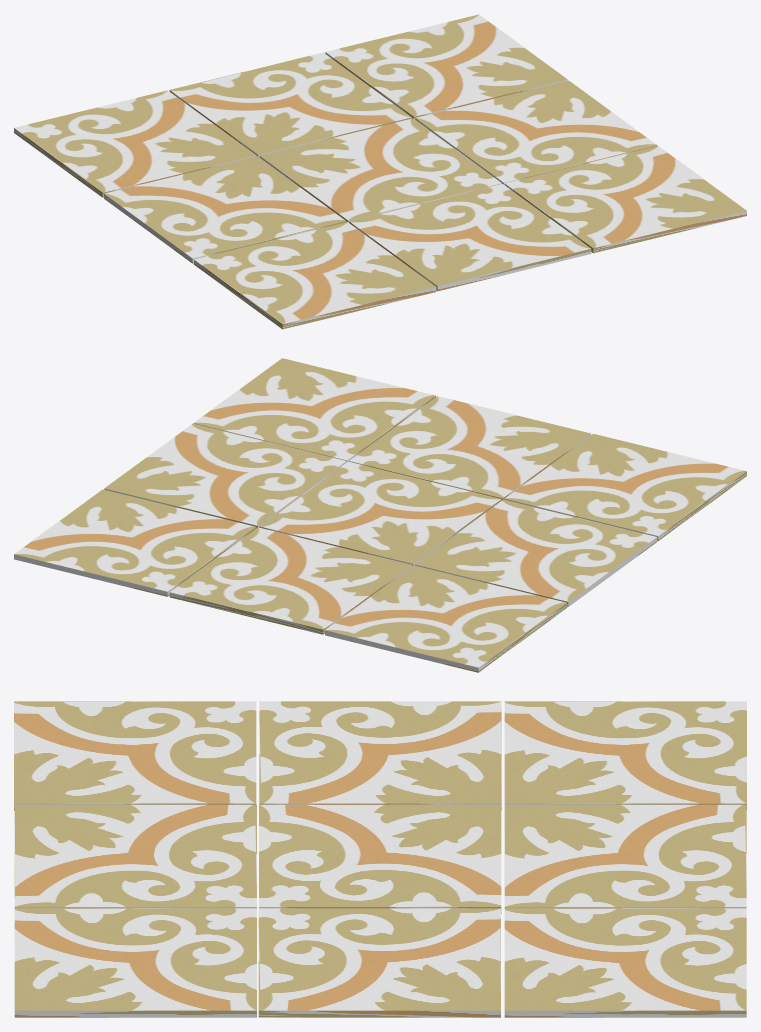
Rendered from baldosa2.glb.
The picture shows the model from 3 angles, top to bottom: view 1: azimuth 30°, elevation 25°; view 2: azimuth 150°, elevation 25°; view 3: azimuth 270°, elevation 25°; orthographic projection. The views are drawn at different scales.
Parts seen in each view (by area): view 1: Cube.004, Cube.008, Cube, Cube.005, Cube.006, Cube.002, Cube.003, Cube.001, Cube.009; view 2: Cube.006, Cube.002, Cube.003, Cube.004, Cube.005, Cube.009, Cube.001, Cube, Cube.008; view 3: Cube.008, Cube.009, Cube.002, Cube.001, Cube, Cube.003, Cube.004, Cube.005, Cube.006.
Boxes of the visible parts, x1,y1,x2,y2 form: Cube.004: (194, 222, 436, 329); Cube.008: (504, 146, 746, 253); Cube: (349, 184, 591, 291); Cube.005: (104, 156, 346, 263); Cube.006: (14, 90, 256, 197); Cube.002: (325, 14, 567, 119); Cube.003: (169, 52, 411, 157); Cube.001: (259, 118, 501, 222); Cube.009: (415, 80, 657, 184); Cube.006: (325, 565, 567, 672); Cube.002: (14, 489, 256, 596); Cube.003: (169, 527, 411, 634); Cube.004: (504, 434, 746, 540); Cube.005: (414, 499, 656, 606); Cube.009: (104, 423, 346, 528); Cube.001: (259, 461, 501, 565); Cube: (349, 396, 591, 500); Cube.008: (193, 358, 435, 461); Cube.008: (14, 908, 256, 1017); Cube.009: (258, 908, 500, 1017); Cube.002: (504, 908, 746, 1017); Cube.001: (259, 804, 501, 913); Cube: (14, 804, 256, 908); Cube.003: (504, 804, 746, 908); Cube.004: (14, 701, 256, 810); Cube.005: (259, 701, 501, 810); Cube.006: (504, 701, 746, 810).
Bounding box in the file's own units: 11.53 × 0.1223 × 11.53.
1 material, 1 textured.
